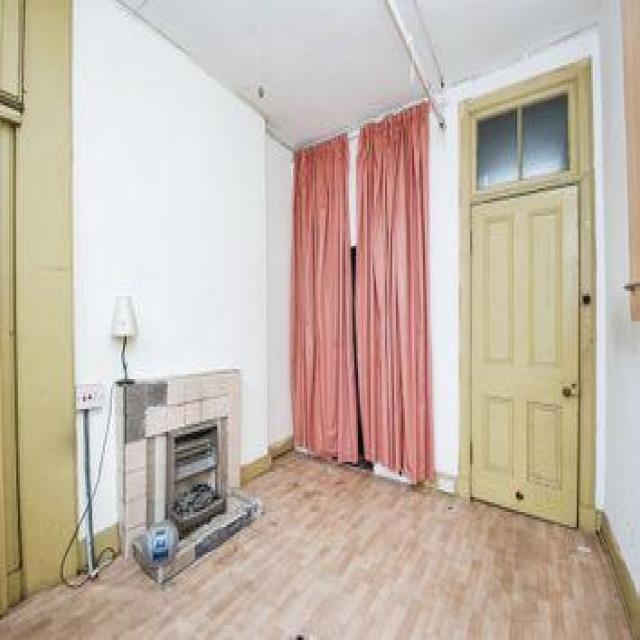Wall: (430, 0, 640, 633), (0, 451, 630, 639), (74, 0, 292, 473), (121, 0, 426, 148), (391, 0, 601, 103)
